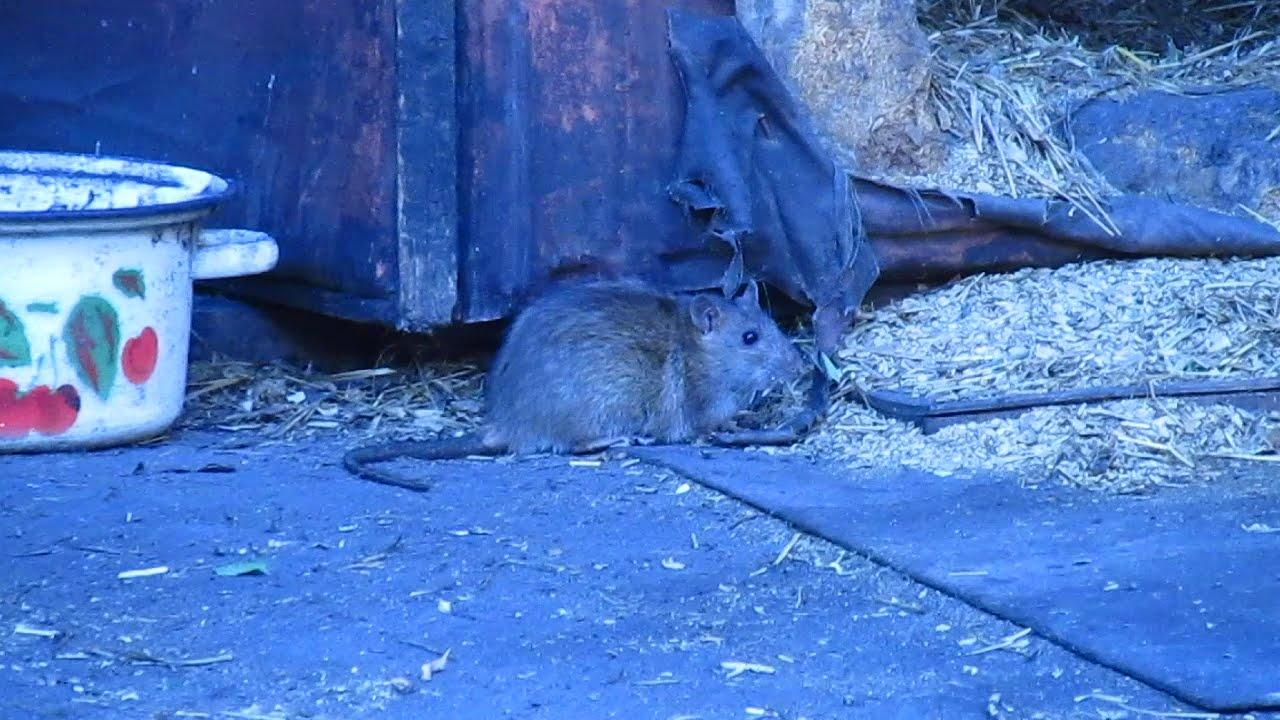rat: (482, 280, 802, 454)
